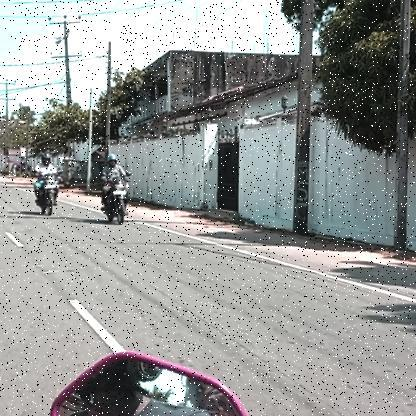motorcycle: (98, 176, 134, 228), (31, 172, 65, 219)
